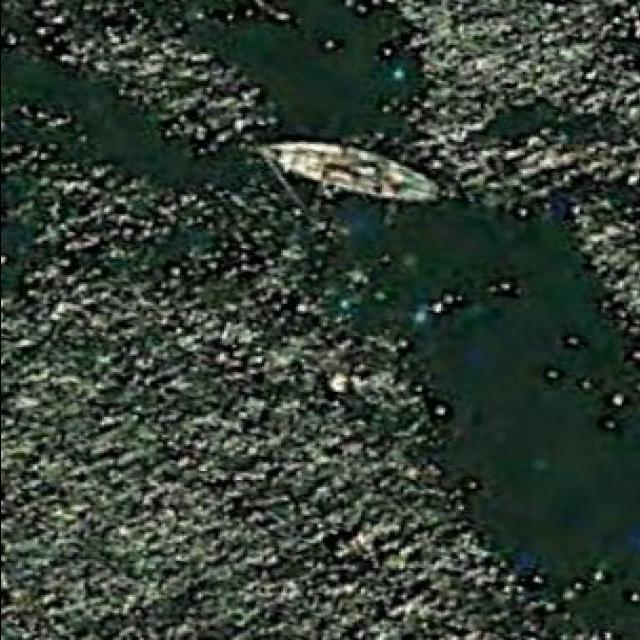ship: (252, 136, 444, 206)
